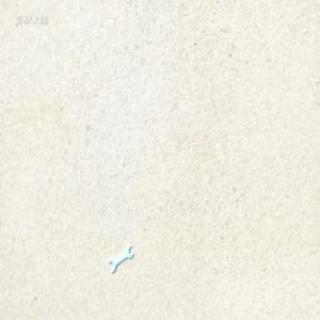Wrenchtrack_idkeyframe: (108, 240, 133, 271)
